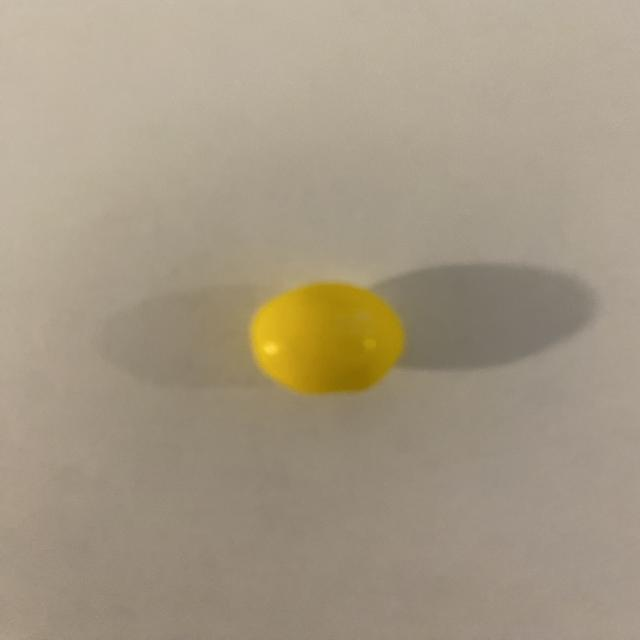smartie: (250, 283, 406, 399)
